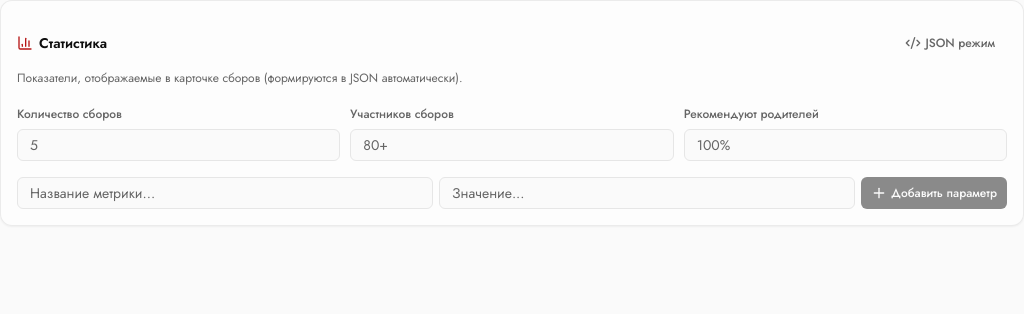
StatsObjectInput Component › adds custom metric key/value pair and removes it with delete button
Expected: the button "Добавить параметр" is disabled, [861,176,1007,208]
In the field with placeholder "Название метрики...": (225, 192) [17,176,433,208], type "trainers_count"
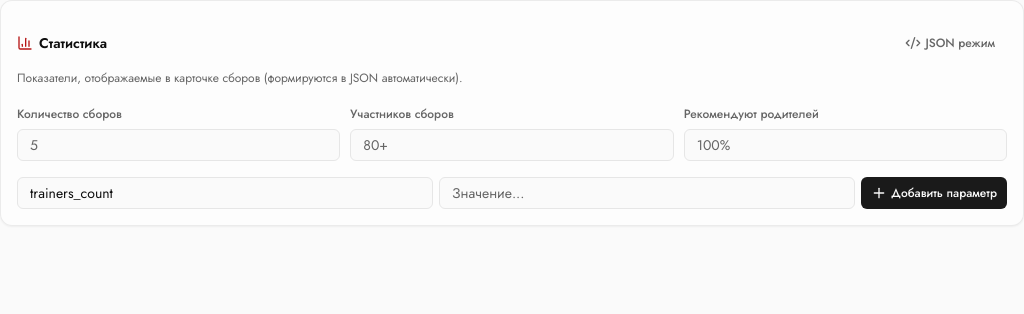
In the field with placeholder "Значение...": (647, 192) [439,176,855,208], type "12"
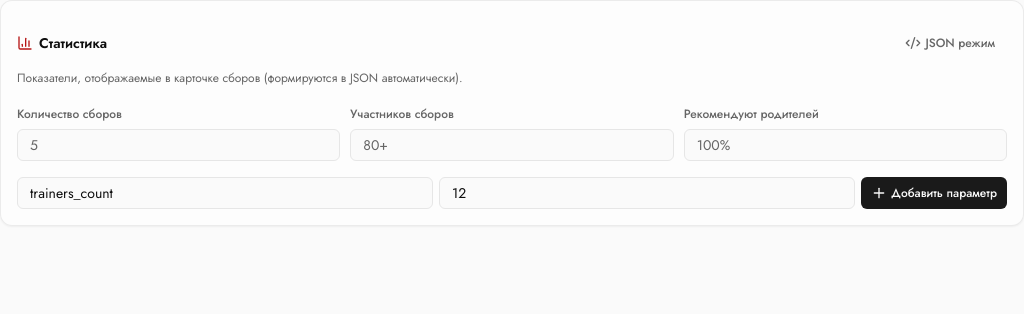
Now the button "Добавить параметр" is enabled
Click the button "Добавить параметр": (934, 192) [861,176,1007,208]
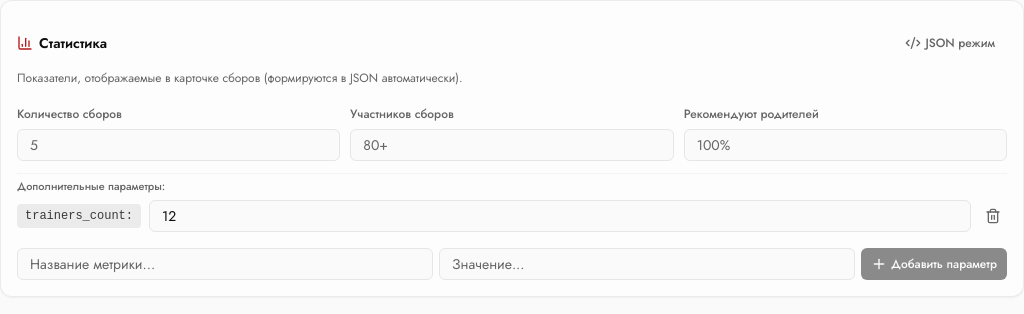
Now the text "trainers_count:" is shown, box [17,204,141,228]
Now the field with placeholder "Название метрики..." is empty, box [17,248,433,280]
Now the field with placeholder "Значение..." is empty, box [439,248,855,280]
Note: Remove the custom metric with Trash button
Click the 2nd button: (993, 216) [979,202,1007,230]
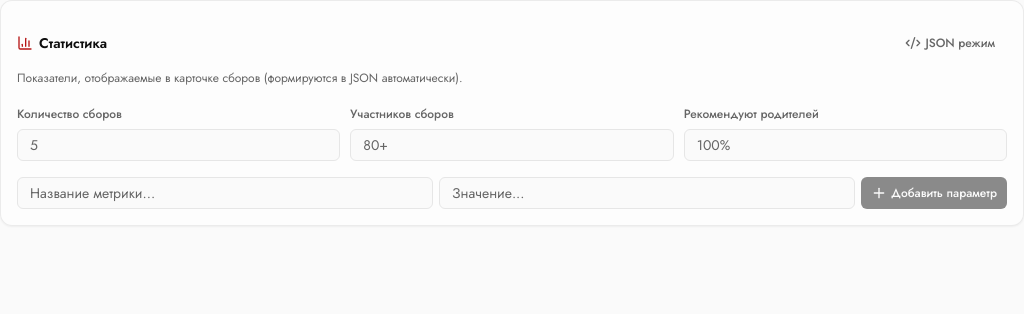
Now the text "trainers_count:" is gone
